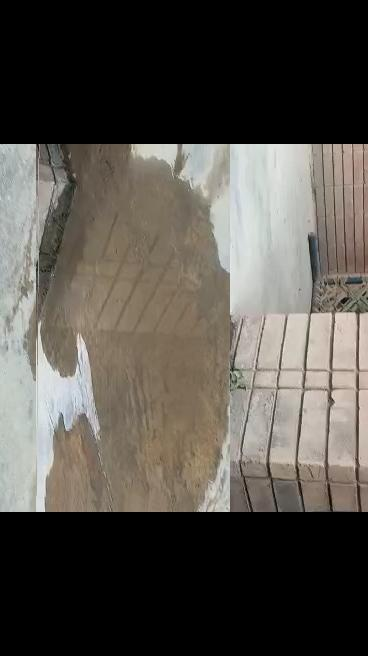water accumulation: (33, 144, 228, 512)
